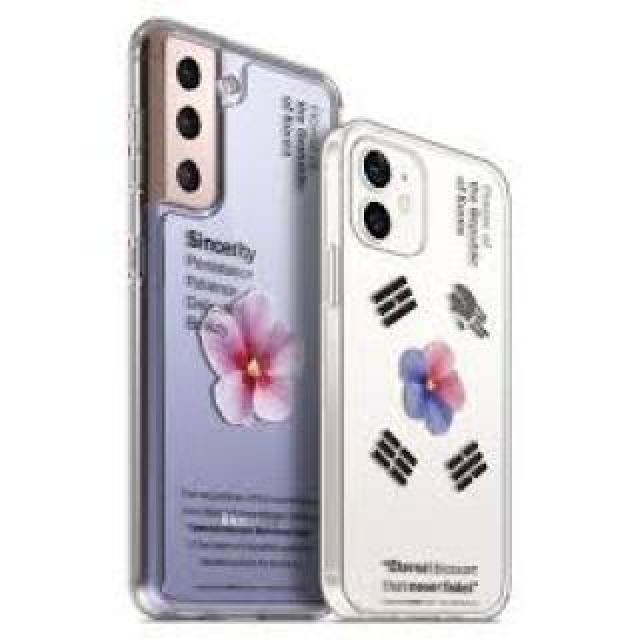smart phone: (82, 30, 350, 590), (330, 115, 533, 630)
